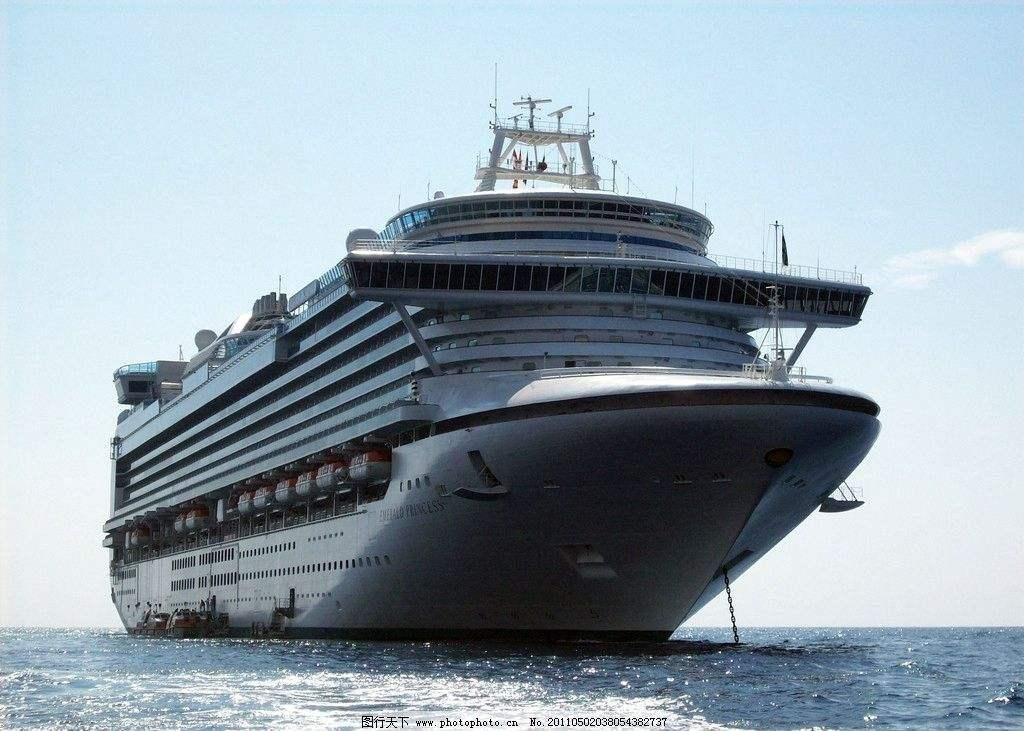youlun: (102, 79, 888, 640)
